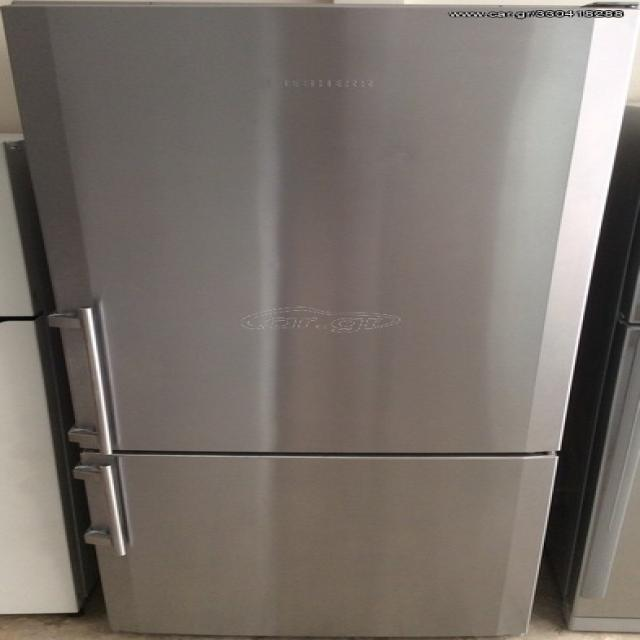refrigerator: (0, 0, 580, 638)
